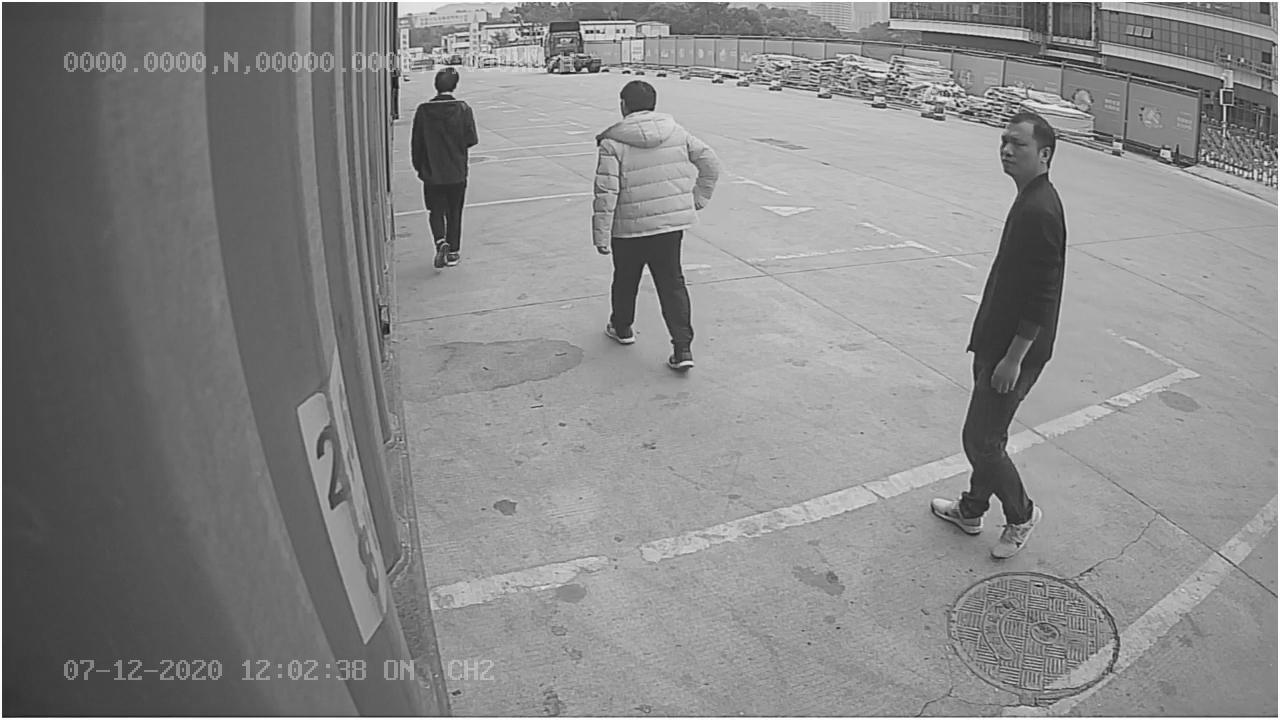person: (926, 104, 1065, 561), (588, 65, 723, 372)
